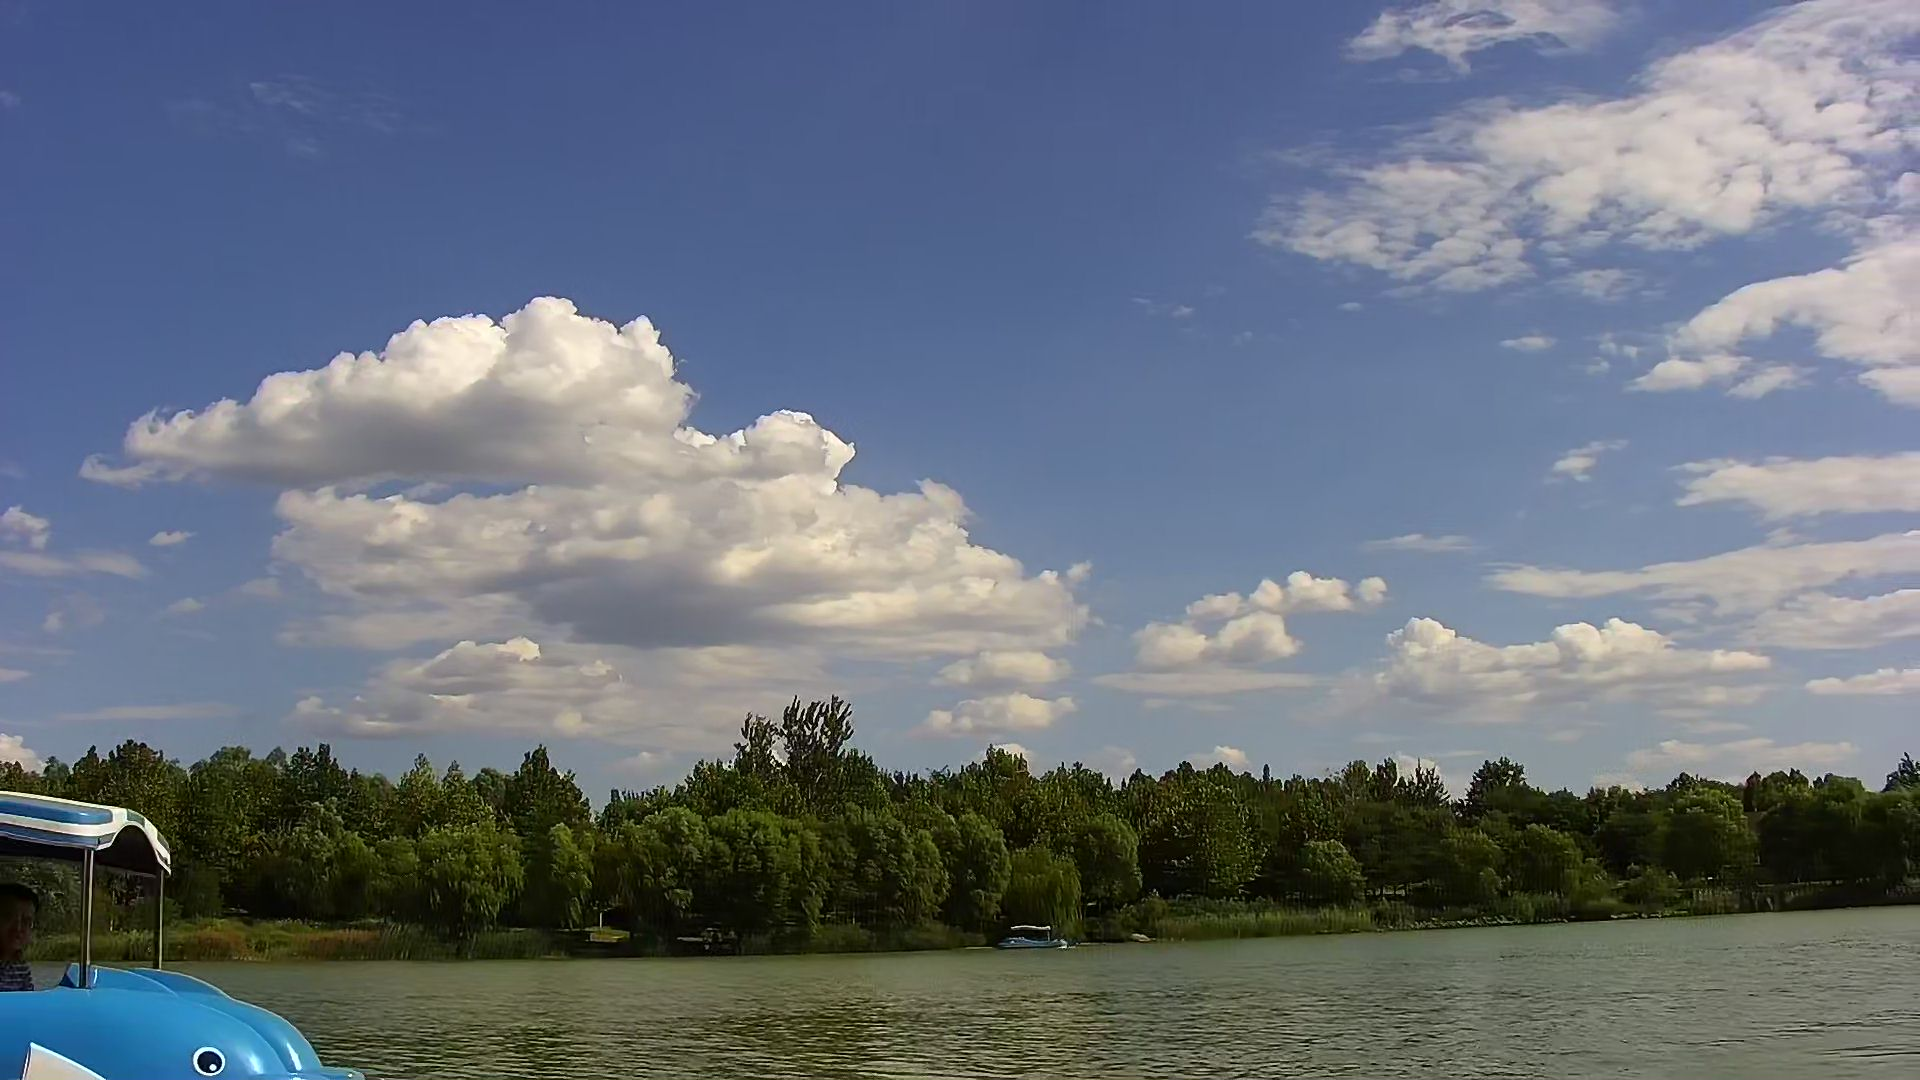boat: (986, 914, 1087, 961)
